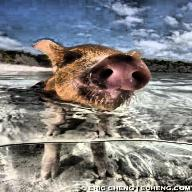boar: (27, 25, 146, 180)
